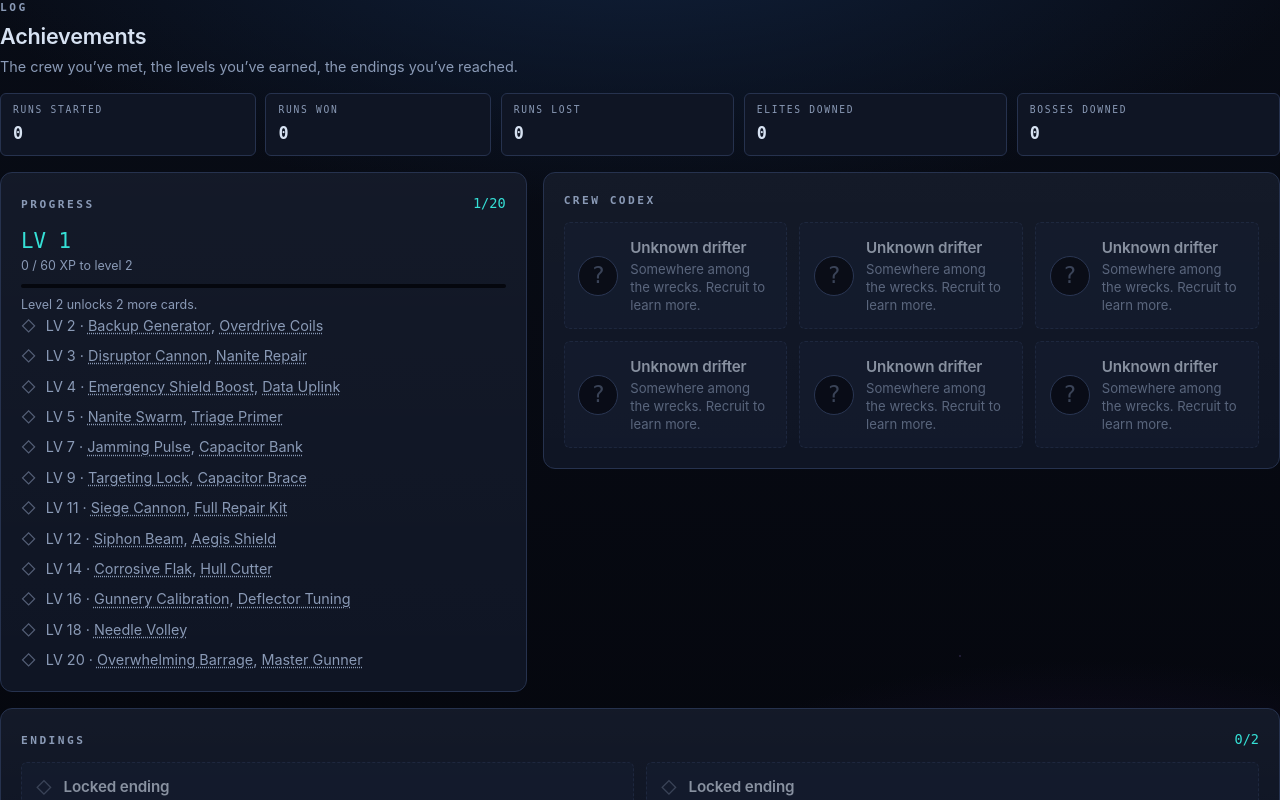
Scenario: AchievementsScreen › opens a card preview when a level-unlock card name is clicked
Click the button "Backup Generator": (149, 326) [88, 315, 211, 336]
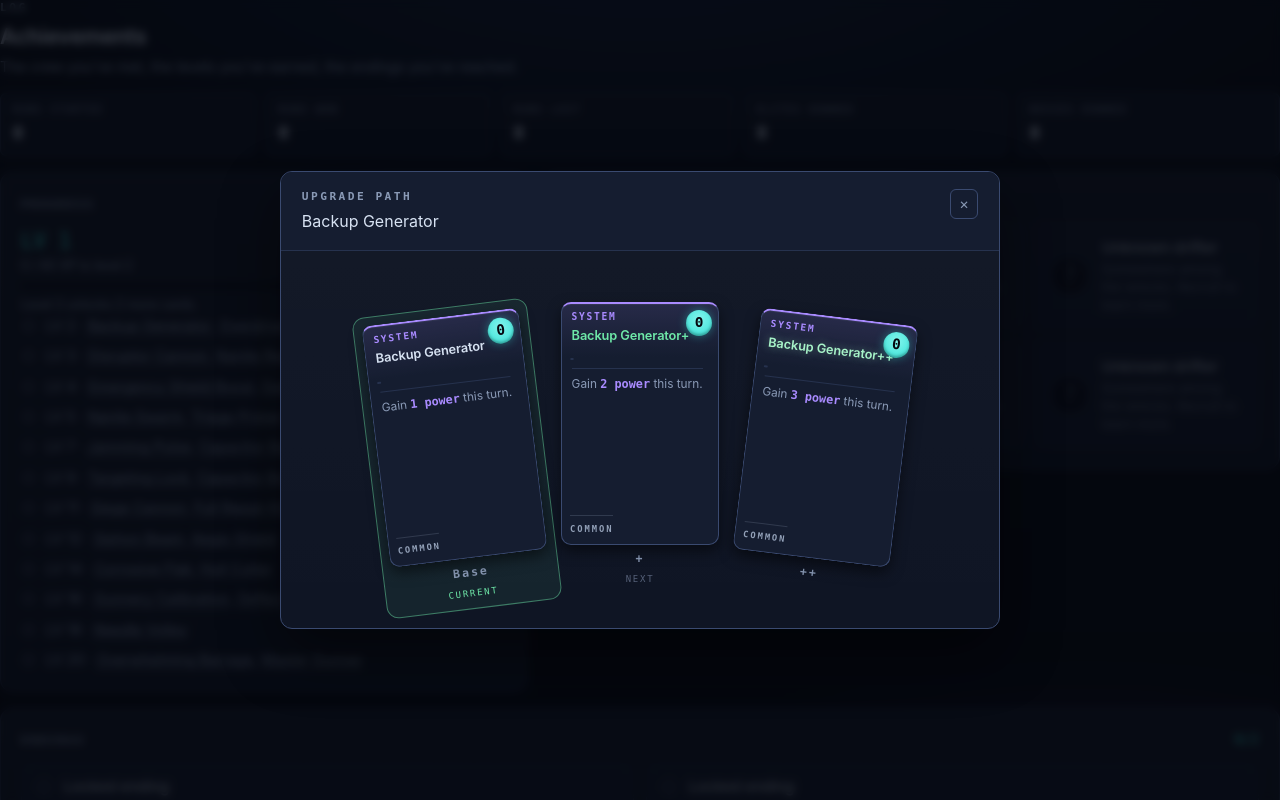
Now the dialog shows "Backup Generator", box [302, 210, 439, 230]
Now the dialog shows "1 power"
